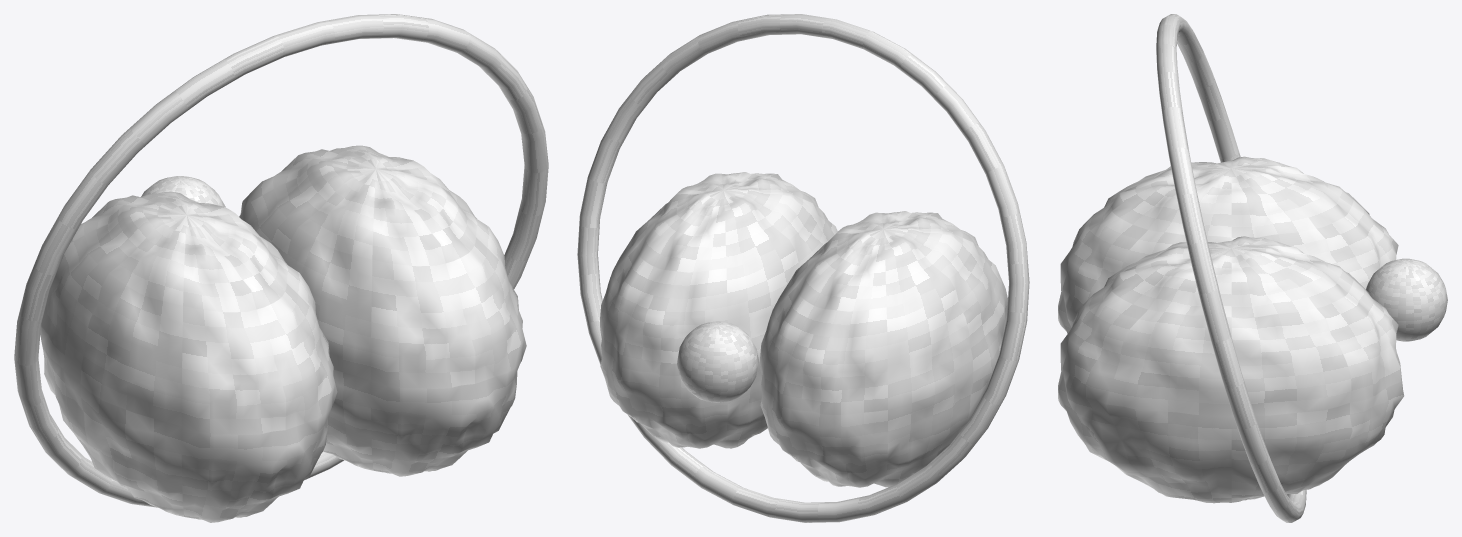
The model's file is visionary.obj.
3 renders of one model, left to right at view 1: azimuth 30°, elevation 25°; view 2: azimuth 150°, elevation 25°; view 3: azimuth 270°, elevation 25°, orthographic. The views are drawn at different scales.
Size of the model in its own units: 0.95 by 0.9176 by 0.7074.
